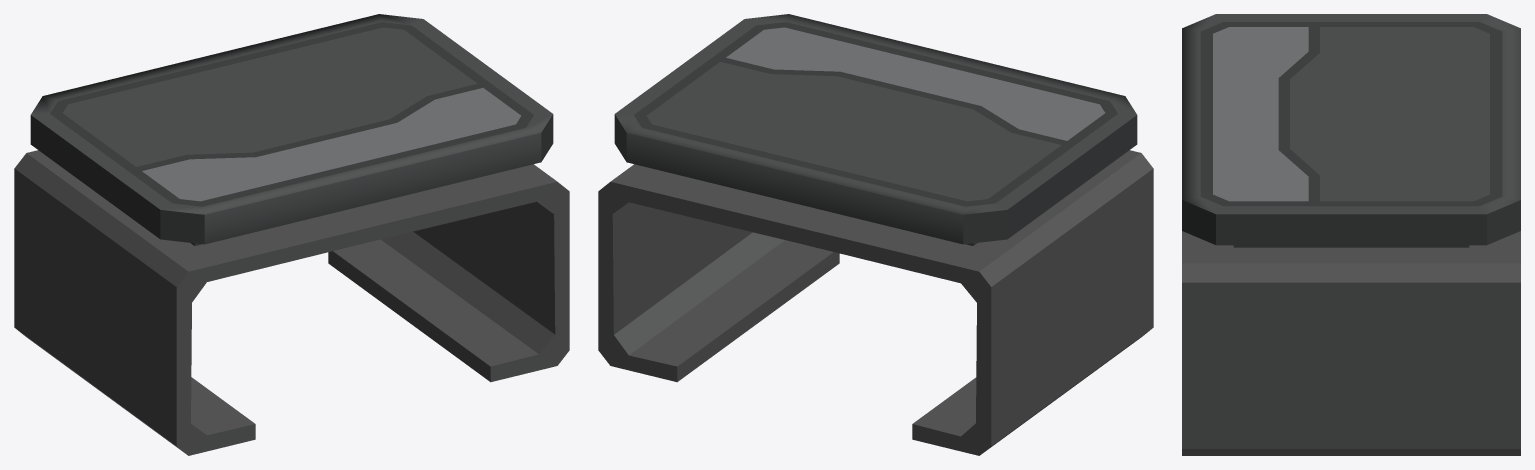
Rendered from Desk_011.fbx.
3 views of the same model, side by side, from view 1: azimuth 30°, elevation 25°; view 2: azimuth 150°, elevation 25°; view 3: azimuth 270°, elevation 25° (orthographic). The views are drawn at different scales.
Parts seen in each view (by area): view 1: Desk_011; view 2: Desk_011; view 3: Desk_011.
Boxes of the visible parts, x1=… form: Desk_011: x1=14, y1=14, x2=569, y2=455; Desk_011: x1=598, y1=14, x2=1153, y2=455; Desk_011: x1=1182, y1=14, x2=1520, y2=455.
Bounding box in the file's own units: 147 × 105 × 84.84.
